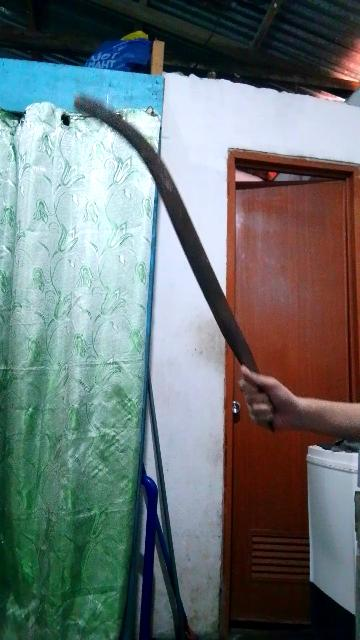long knife: (61, 85, 298, 439)
